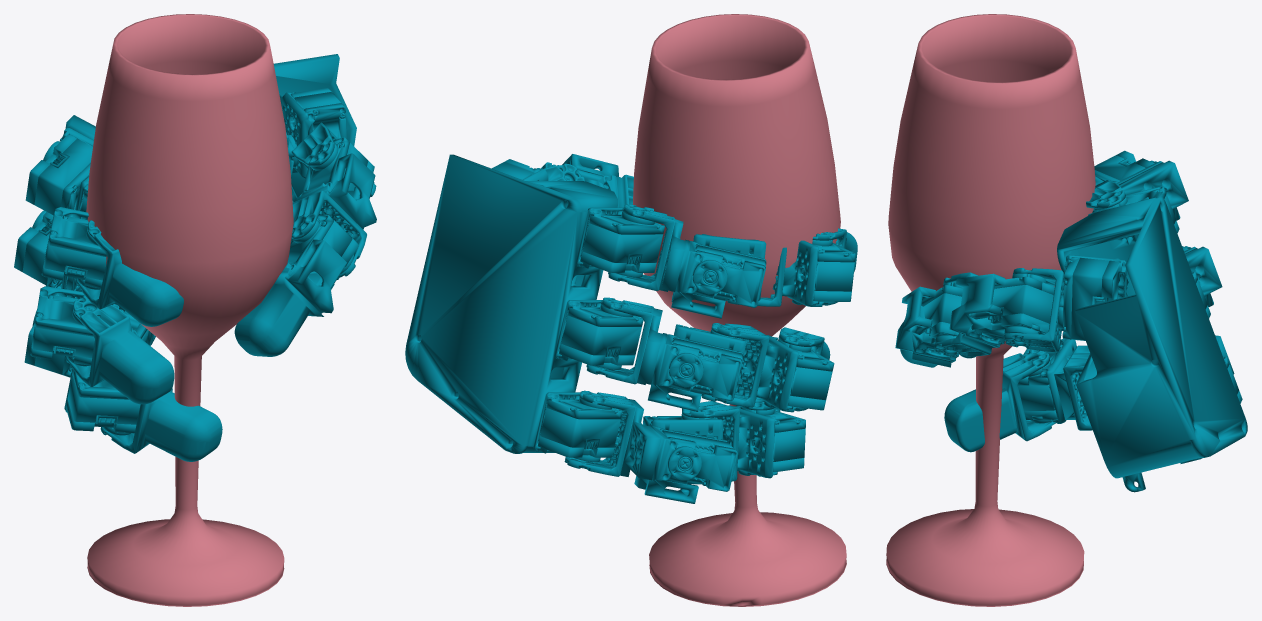
The picture shows the model from 3 angles, left to right: view 1: azimuth 30°, elevation 25°; view 2: azimuth 150°, elevation 25°; view 3: azimuth 270°, elevation 25°; orthographic projection.
Parts seen in each view (by area): view 1: world; view 2: world; view 3: world.
Part boxes in pixels (x1=…): world: x1=14, y1=14, x2=376, y2=606; world: x1=405, y1=14, x2=857, y2=606; world: x1=886, y1=14, x2=1247, y2=606.
Bounding box in the file's own units: 0.1946 × 0.27 × 0.1687.
